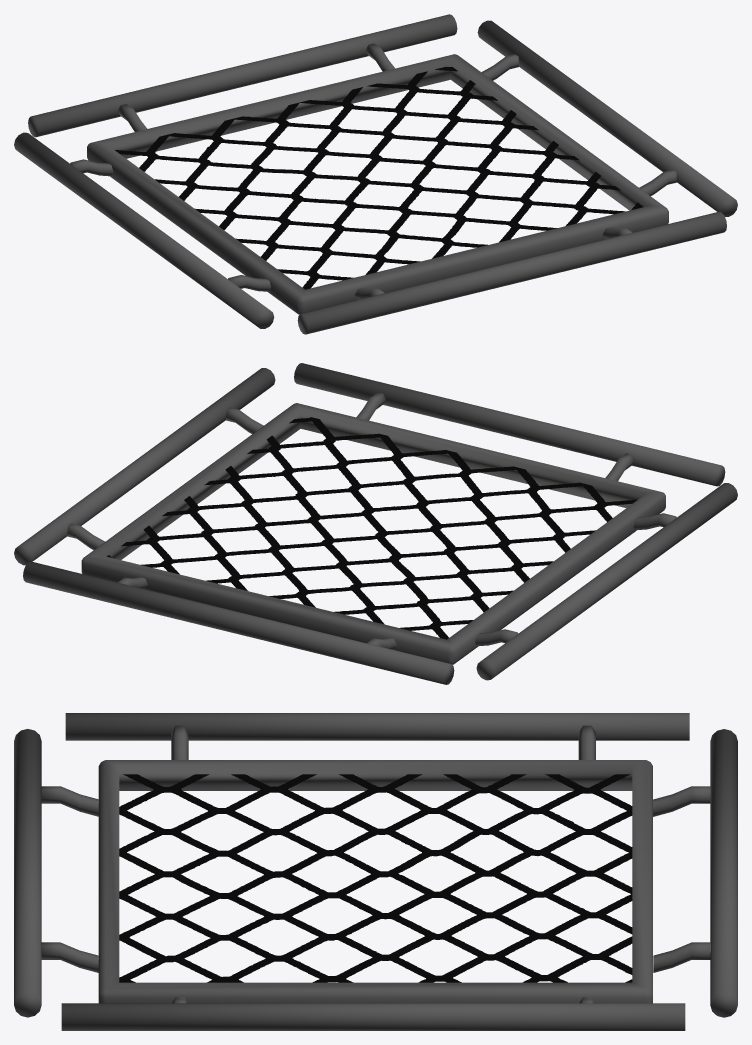
The model's file is SmallPlatform.obj.
3 views of the same model, one above another, from view 1: azimuth 30°, elevation 25°; view 2: azimuth 150°, elevation 25°; view 3: azimuth 270°, elevation 25° (orthographic). The views are drawn at different scales.
Parts seen in each view (by area): view 1: Platform_Small; view 2: Platform_Small; view 3: Platform_Small.
Boxes of the visible parts, <box> form: Platform_Small: <box>14,14,737,334</box>; Platform_Small: <box>14,363,737,684</box>; Platform_Small: <box>14,713,737,1030</box>.
Size of the model in its own units: 203 by 12.22 by 206.
